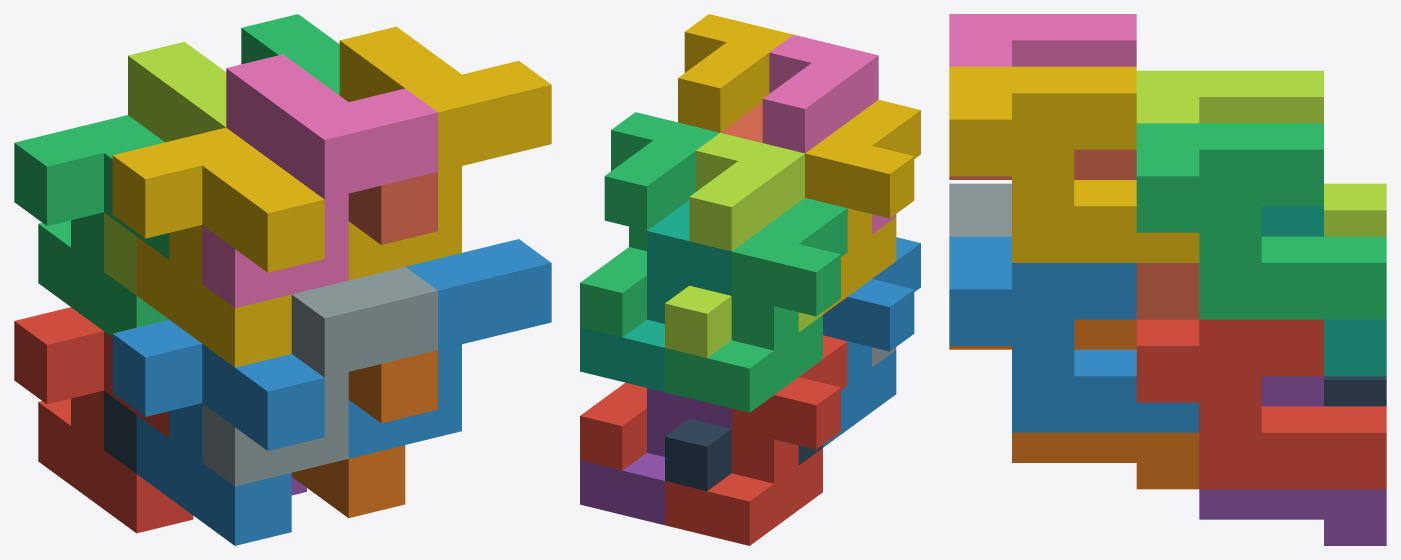
The model's file is tiling.obj.
3 renders of one model, left to right at view 1: azimuth 30°, elevation 25°; view 2: azimuth 150°, elevation 25°; view 3: azimuth 270°, elevation 25°, orthographic. The views are drawn at different scales.
Visible parts, largest first — view 1: copy_1_domain_4, copy_1_domain_2, copy_2_domain_4, copy_2_domain_8, copy_2_domain_2, copy_1_domain_3, copy_1_domain_1, copy_2_domain_6, copy_1_domain_6, copy_2_domain_3, copy_1_domain_8, copy_2_domain_7 (+1 smaller); view 2: copy_1_domain_3, copy_1_domain_1, copy_2_domain_3, copy_2_domain_7, copy_1_domain_4, copy_2_domain_4, copy_1_domain_7, copy_1_domain_2, copy_2_domain_8, copy_1_domain_5, copy_2_domain_5, copy_2_domain_1 (+1 smaller); view 3: copy_2_domain_7, copy_2_domain_8, copy_2_domain_5, copy_2_domain_6, copy_2_domain_3, copy_2_domain_4, copy_1_domain_6, copy_1_domain_5, copy_1_domain_8, copy_1_domain_7, copy_2_domain_2, copy_2_domain_1.
Boxes of the visible parts, x1=… form: copy_1_domain_4: x1=112, y1=127, x2=324, y2=367; copy_1_domain_2: x1=112, y1=319, x2=324, y2=545; copy_2_domain_4: x1=202, y1=54, x2=437, y2=307; copy_2_domain_8: x1=339, y1=26, x2=551, y2=280; copy_2_domain_2: x1=202, y1=266, x2=437, y2=486; copy_1_domain_3: x1=14, y1=115, x2=169, y2=337; copy_1_domain_1: x1=14, y1=307, x2=193, y2=533; copy_2_domain_6: x1=348, y1=239, x2=551, y2=458; copy_1_domain_6: x1=291, y1=350, x2=437, y2=518; copy_2_domain_3: x1=104, y1=41, x2=226, y2=295; copy_1_domain_8: x1=348, y1=172, x2=437, y2=244; copy_2_domain_7: x1=241, y1=14, x2=339, y2=95; copy_1_domain_3: x1=665, y1=198, x2=847, y2=412; copy_1_domain_1: x1=665, y1=335, x2=847, y2=545; copy_2_domain_3: x1=665, y1=133, x2=822, y2=357; copy_2_domain_7: x1=580, y1=112, x2=719, y2=337; copy_1_domain_4: x1=805, y1=99, x2=920, y2=314; copy_2_domain_4: x1=762, y1=35, x2=896, y2=234; copy_1_domain_7: x1=580, y1=200, x2=731, y2=391; copy_1_domain_2: x1=823, y1=237, x2=920, y2=447; copy_2_domain_8: x1=678, y1=14, x2=793, y2=132; copy_1_domain_5: x1=580, y1=388, x2=731, y2=525; copy_2_domain_5: x1=580, y1=382, x2=646, y2=470; copy_2_domain_1: x1=665, y1=418, x2=822, y2=490; copy_2_domain_7: x1=1136, y1=123, x2=1386, y2=319; copy_2_domain_8: x1=949, y1=66, x2=1199, y2=262; copy_2_domain_5: x1=1136, y1=319, x2=1386, y2=489; copy_2_domain_6: x1=949, y1=236, x2=1199, y2=432; copy_2_domain_3: x1=1136, y1=70, x2=1386, y2=236; copy_2_domain_4: x1=949, y1=14, x2=1136, y2=66; copy_1_domain_6: x1=949, y1=319, x2=1199, y2=489; copy_1_domain_5: x1=1199, y1=376, x2=1386, y2=545; copy_1_domain_8: x1=949, y1=149, x2=1199, y2=319; copy_1_domain_7: x1=1261, y1=206, x2=1386, y2=376; copy_2_domain_2: x1=949, y1=183, x2=1011, y2=236; copy_2_domain_1: x1=1324, y1=376, x2=1386, y2=406.
Size of the model in its own units: 6 by 8 by 7.
